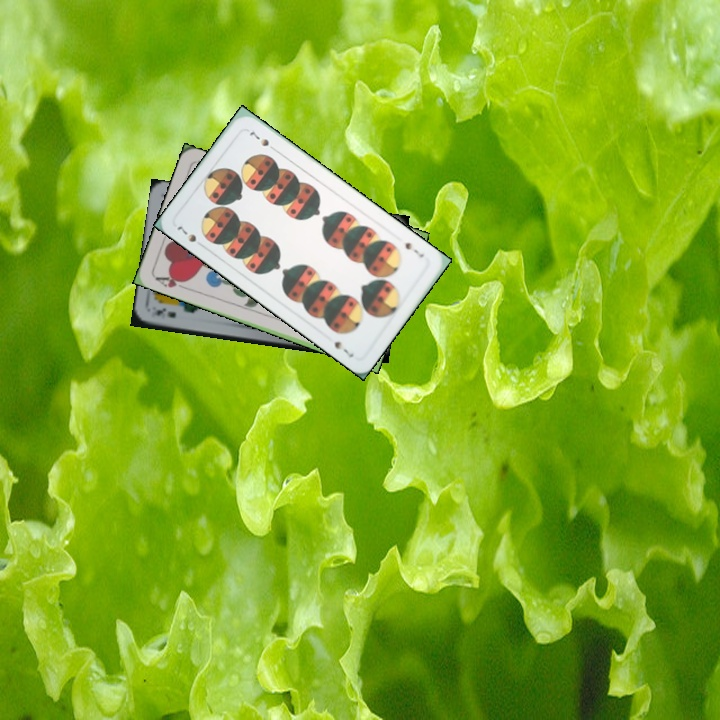EK: (152, 305, 179, 322)
HA: (151, 270, 190, 292)
S7: (173, 222, 207, 250), (401, 238, 427, 260)
